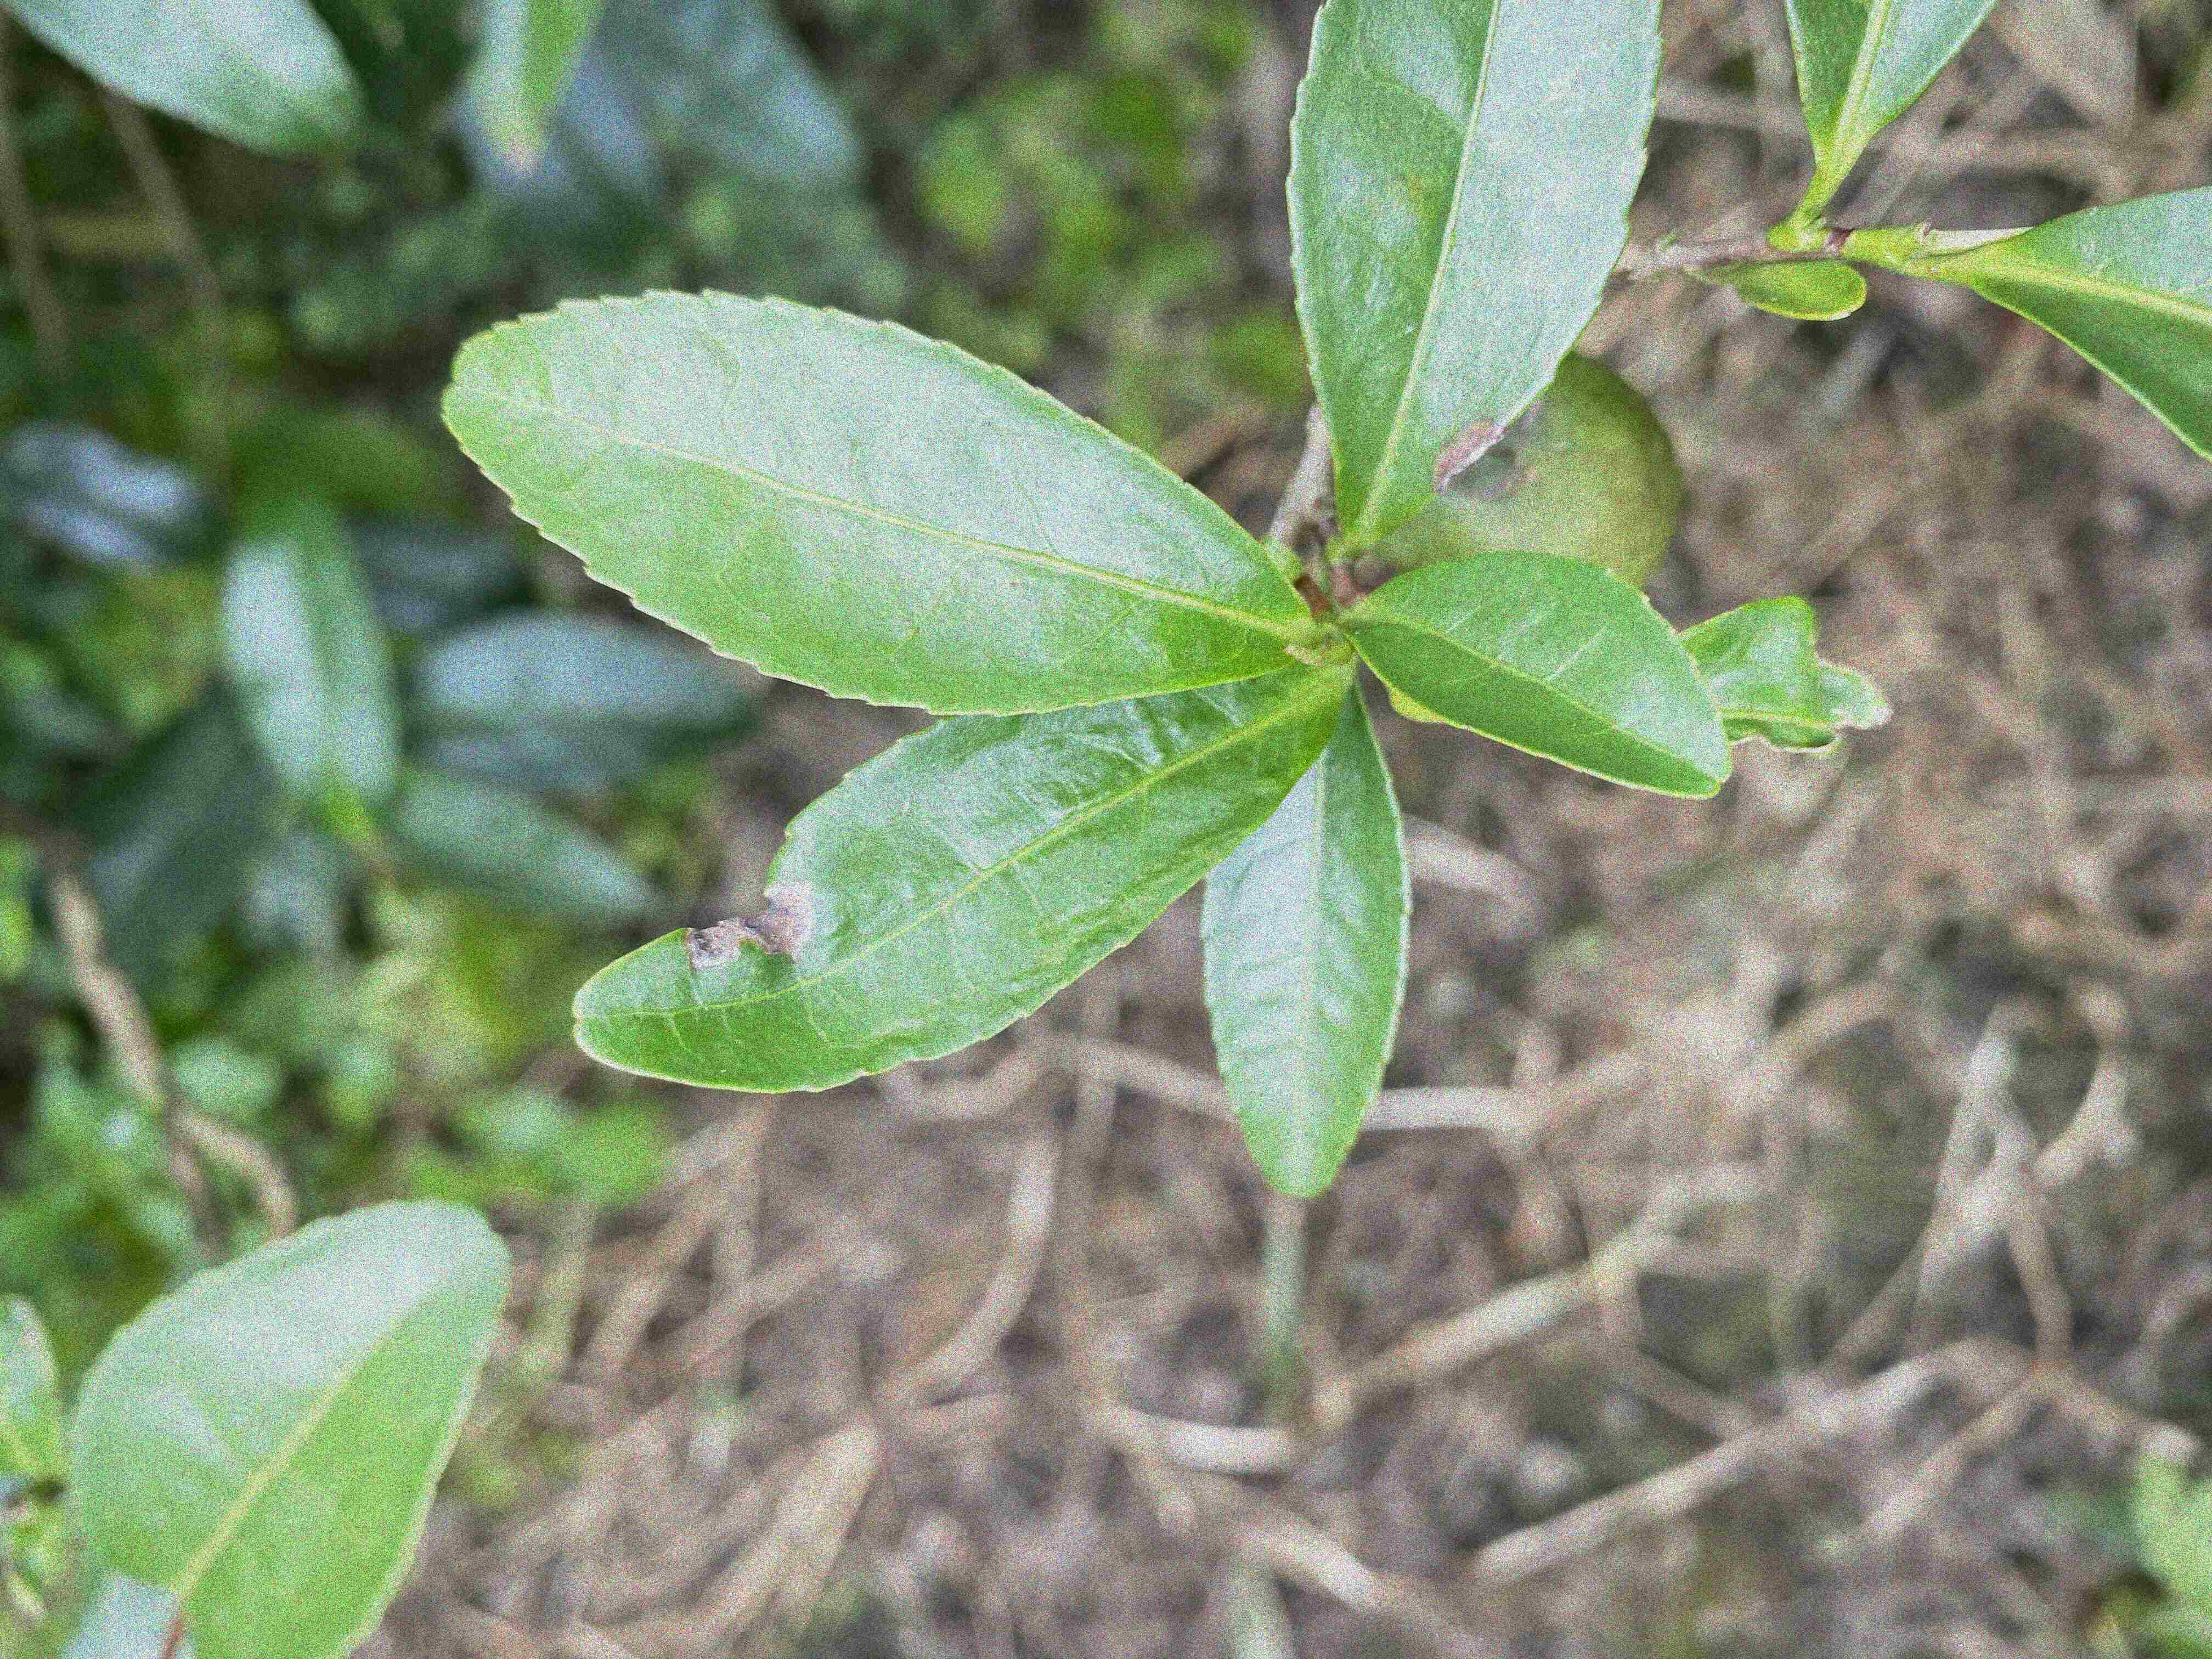chihuo_high: (1679, 594, 1897, 758)
healthy: (437, 286, 1312, 718), (1198, 685, 1414, 1199), (1345, 552, 1731, 798)
tanju_high: (570, 657, 1353, 1096)
tanju_low: (1285, 3, 1665, 542)
